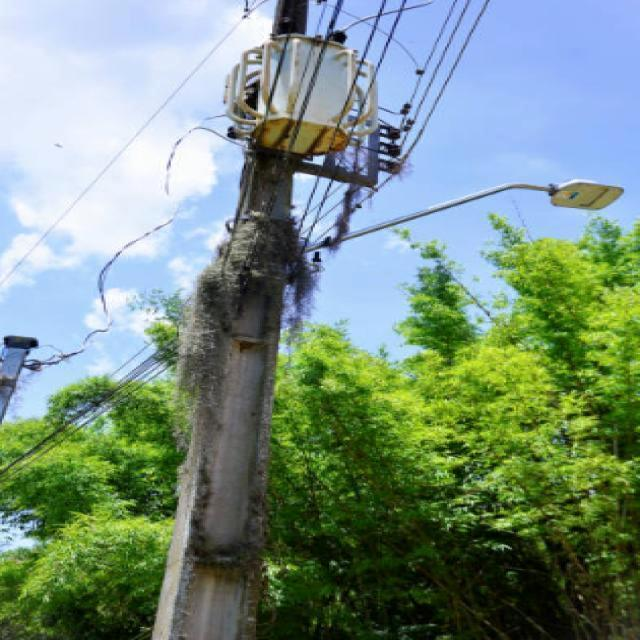critical vegetation: (156, 198, 320, 398)
